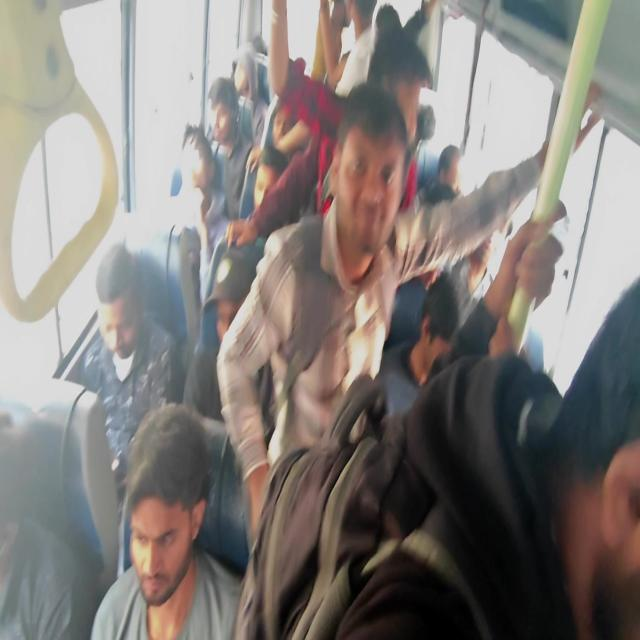person: (541, 335, 640, 639), (330, 140, 423, 348), (86, 425, 185, 600), (0, 421, 48, 547), (376, 37, 435, 134), (102, 276, 153, 372), (180, 130, 223, 229), (204, 266, 242, 378), (475, 194, 515, 290), (243, 160, 282, 234), (274, 90, 302, 168), (213, 76, 236, 148), (438, 149, 466, 206), (376, 2, 408, 47), (236, 46, 258, 105), (319, 2, 349, 42), (358, 0, 383, 43), (248, 30, 262, 56)
